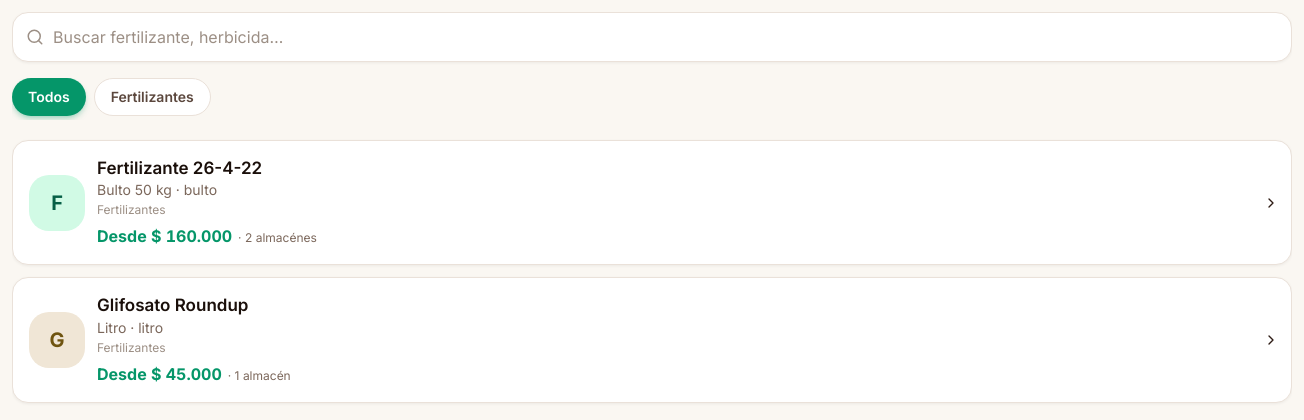
Test case: CatalogoCliente — búsqueda › filtra productos cuando el usuario escribe en búsqueda
This screenshot has width=1304, height=420.
Type "26-4-22" into the search field at (652, 37), box [12,12,1292,62]
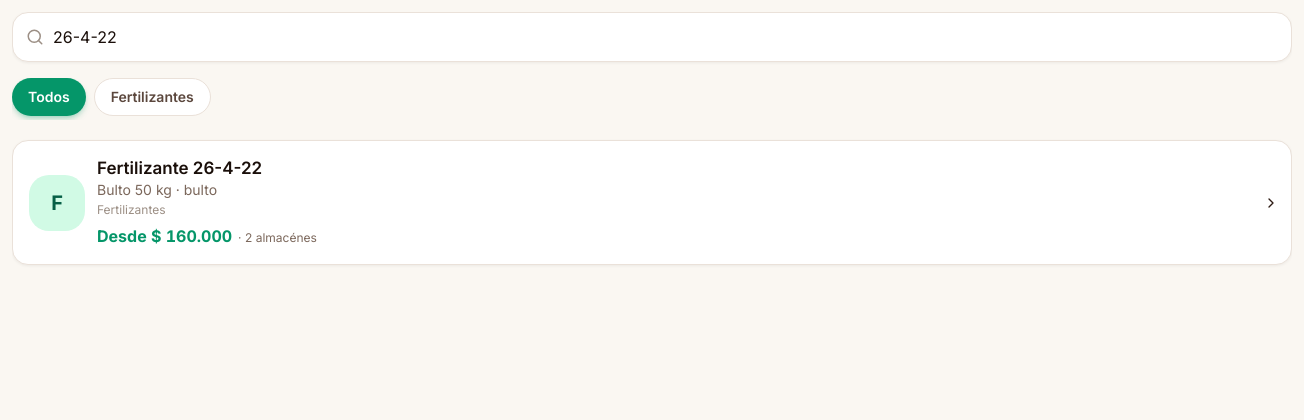
expect the text "Fertilizante 26-4-22" is shown: met, box [97,158,262,178]
expect the link "Glifosato Roundup" is gone: met
